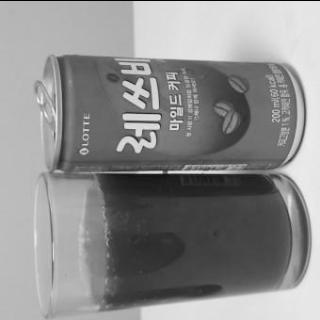alumunium_can: (35, 52, 303, 174)
